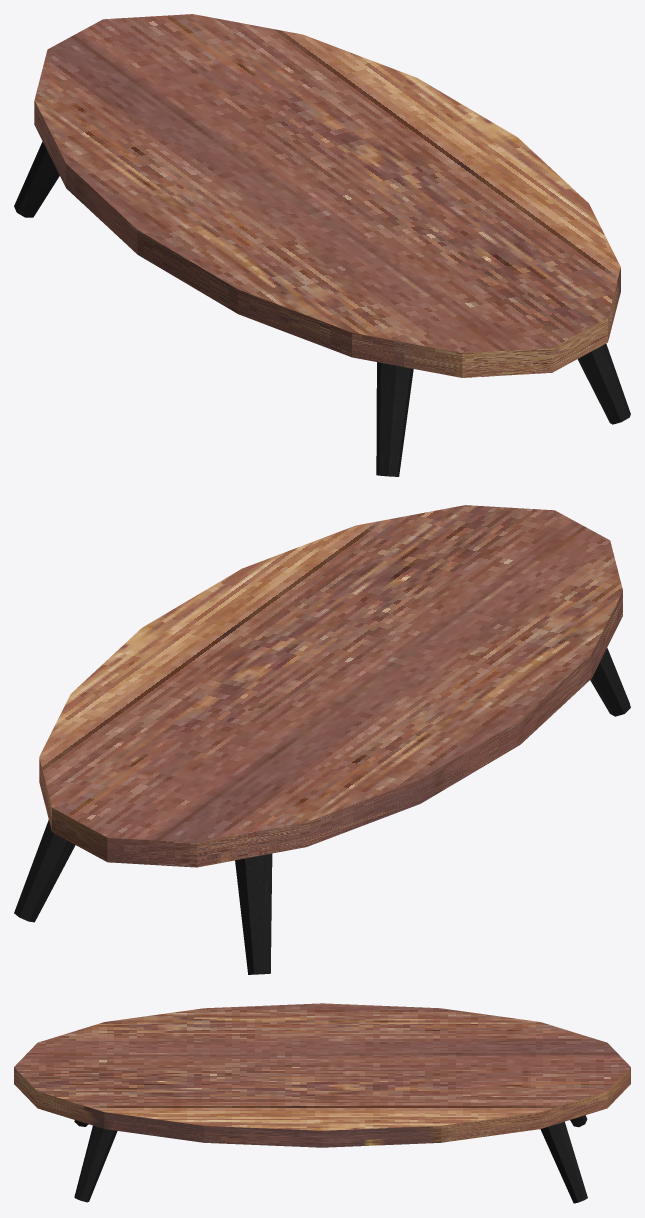
Rendered from round_coffe_table.gltf.
The picture shows the model from 3 angles, top to bottom: view 1: azimuth 30°, elevation 25°; view 2: azimuth 150°, elevation 25°; view 3: azimuth 270°, elevation 25°; orthographic projection. The views are drawn at different scales.
Visible parts, largest first — view 1: Surface-col, Leg, Leg.001, Leg.002; view 2: Surface-col, Leg.002, Leg.003, Leg; view 3: Surface-col, Leg.003, Leg.001.
Boxes of the visible parts, <box> form: Surface-col: <box>34,14,620,377</box>; Leg: <box>376,362,413,476</box>; Leg.001: <box>577,344,630,424</box>; Leg.002: <box>14,141,59,217</box>; Surface-col: <box>39,505,622,867</box>; Leg.002: <box>235,853,272,974</box>; Leg.003: <box>14,819,75,922</box>; Leg: <box>590,648,630,716</box>; Surface-col: <box>14,1003,630,1147</box>; Leg.003: <box>540,1121,587,1203</box>; Leg.001: <box>74,1125,117,1202</box>.
Bounding box in the file's own units: 2 × 0.707 × 4.09.
Materials: 2 (2 with a texture image).
